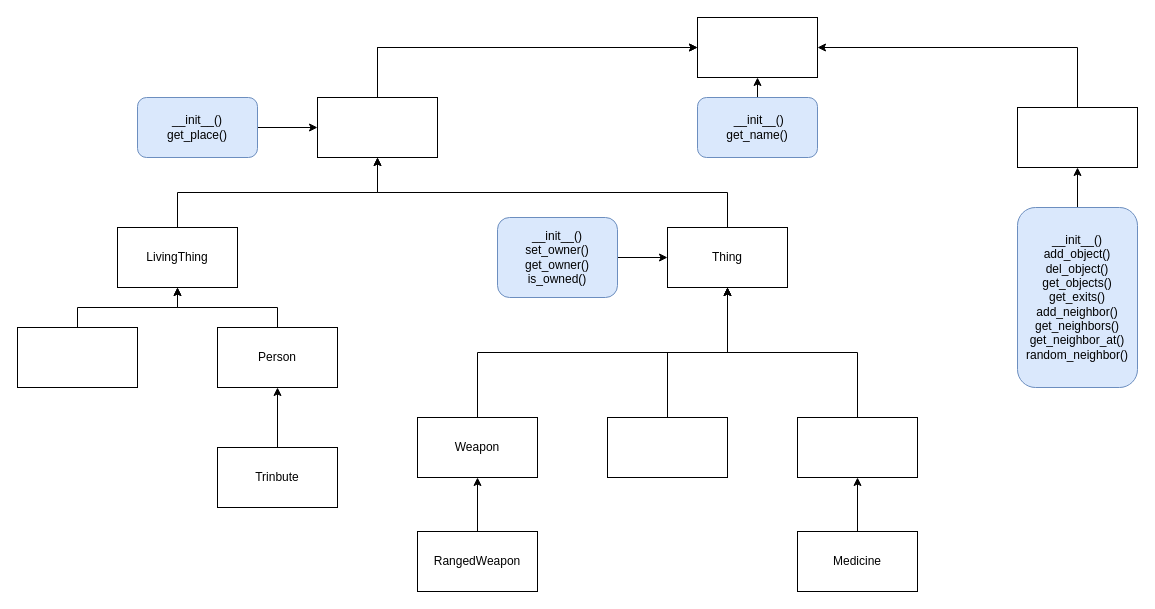
Image size: 1155x609. Some labels were removed from this diagram. The shapes that lost their labels are listed below. From the top down, each one's box as (x1, y1, x2, y2) in pixels, then its label:
(696, 16, 818, 78): NamedObject
(316, 96, 438, 158): MobileObject
(1016, 106, 1138, 168): Place
(16, 326, 138, 388): Animal
(606, 416, 728, 478): Ammo
(796, 416, 918, 478): Food
